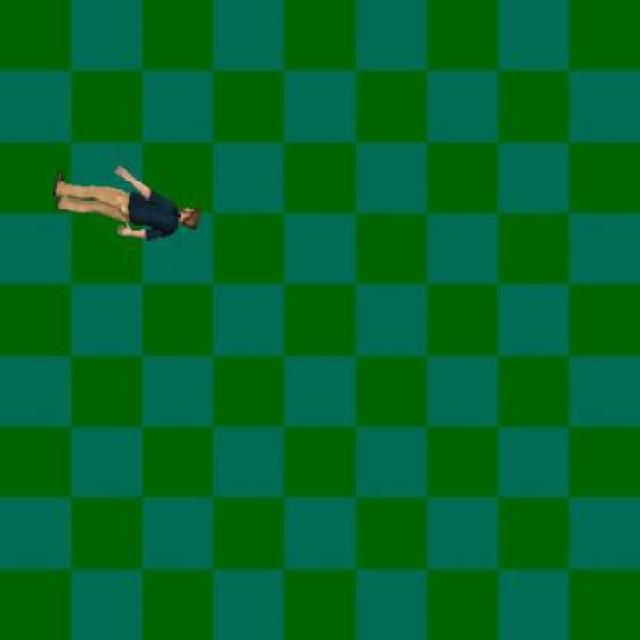Person: (49, 159, 203, 246)
